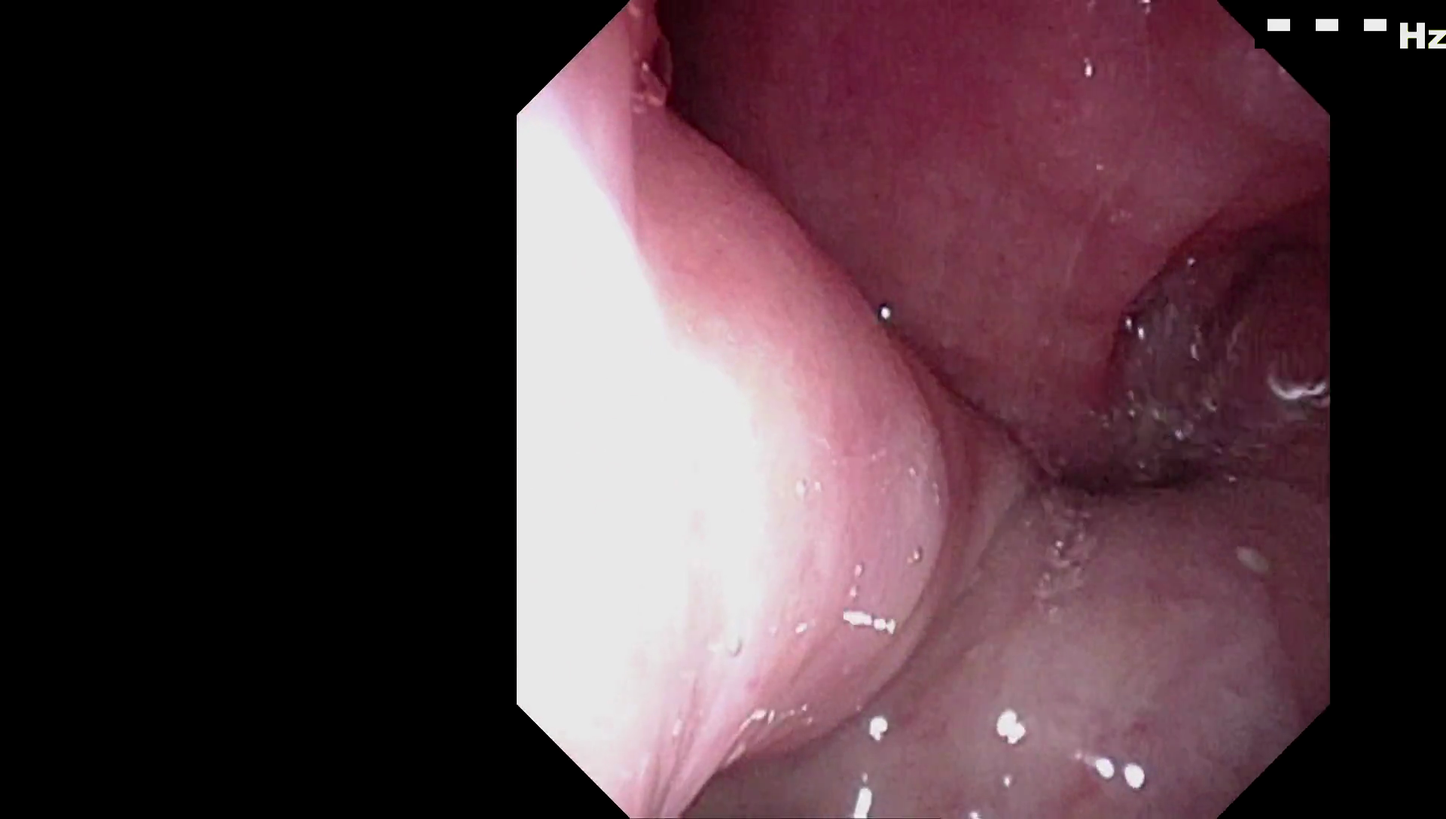close_wall: (533, 127, 870, 706)
next: (638, 7, 795, 185), (1032, 382, 1235, 510)
